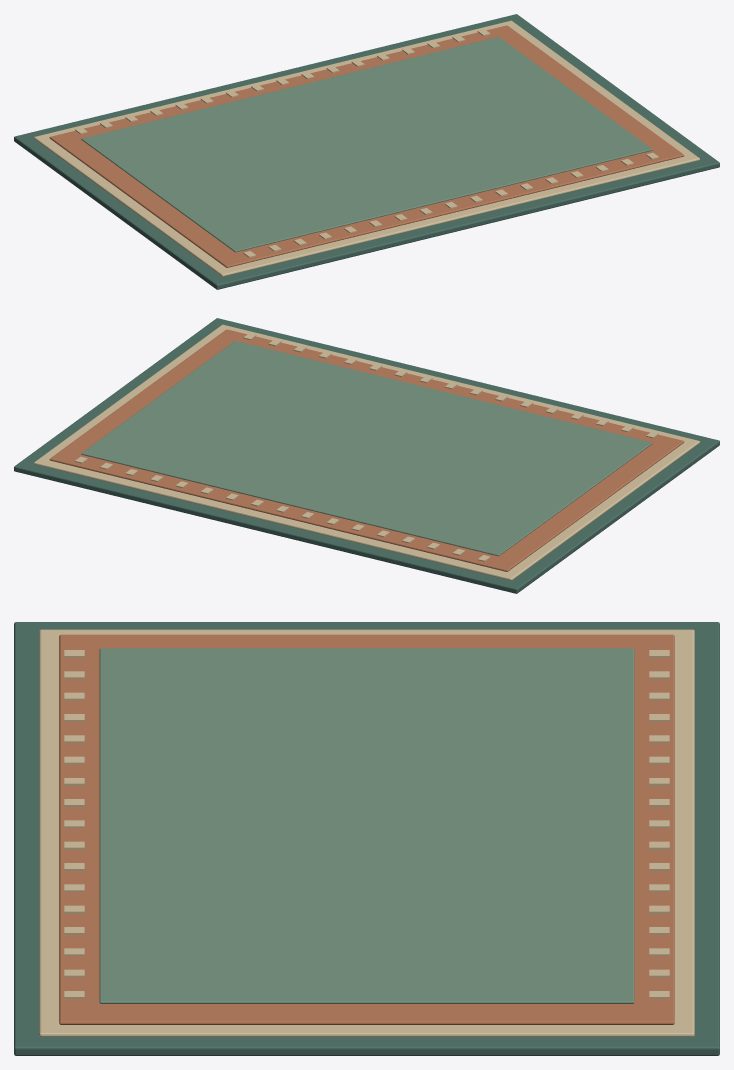
Rendered from SM_CH_Story_Rug.fbx.
The picture shows the model from 3 angles, top to bottom: view 1: azimuth 30°, elevation 25°; view 2: azimuth 150°, elevation 25°; view 3: azimuth 270°, elevation 25°; orthographic projection. The views are drawn at different scales.
Parts seen in each view (by area): view 1: SM_CH_Story_Rug; view 2: SM_CH_Story_Rug; view 3: SM_CH_Story_Rug.
Boxes of the visible parts, x1,y1,x2,y2 form: SM_CH_Story_Rug: (14, 14, 719, 289); SM_CH_Story_Rug: (14, 318, 719, 593); SM_CH_Story_Rug: (14, 622, 719, 1055).
Bounding box in the file's own units: 10000 × 7000 × 220.
